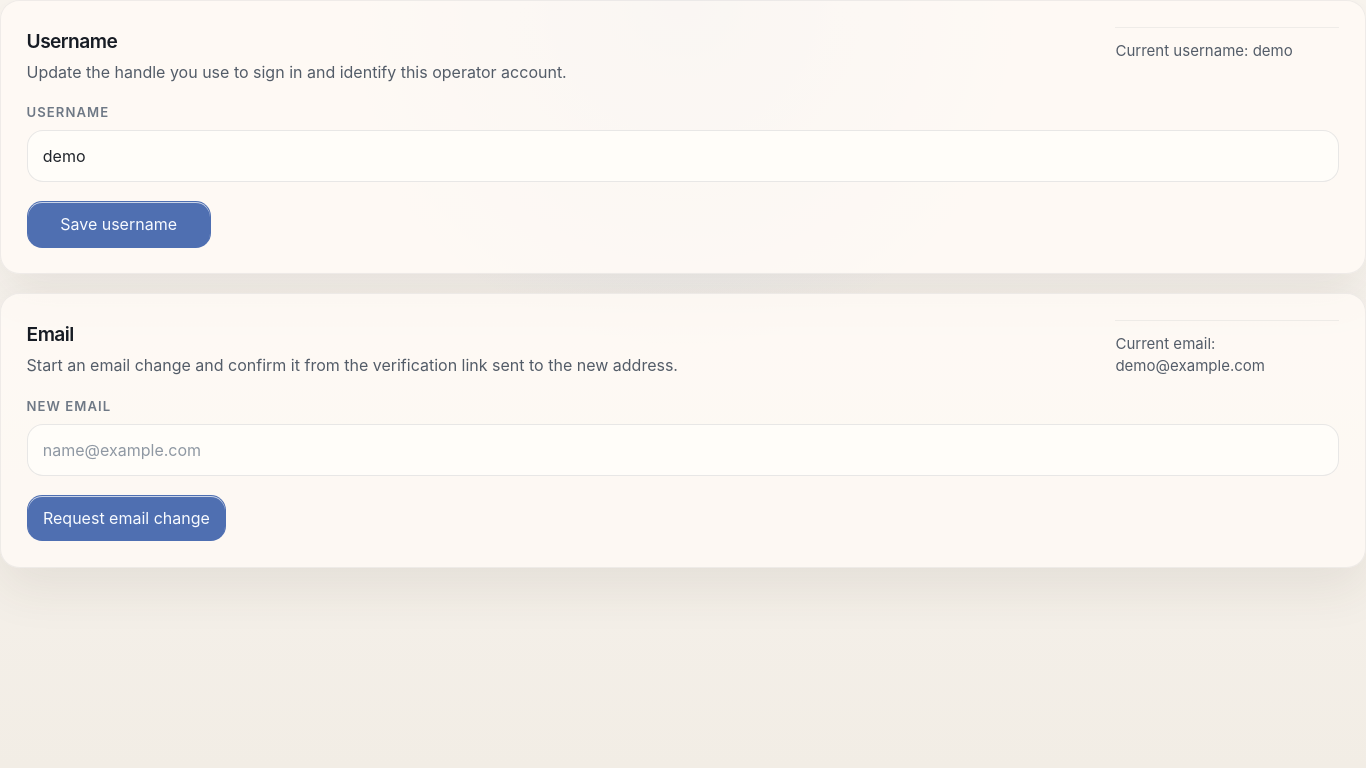
Test: AccountSettingsSection › requests an email change and clears the field after success
The image size is (1366, 768).
Type "next@example.com" into the field labelled "New email" at (683, 450), box left=27, top=424, right=1339, bottom=476
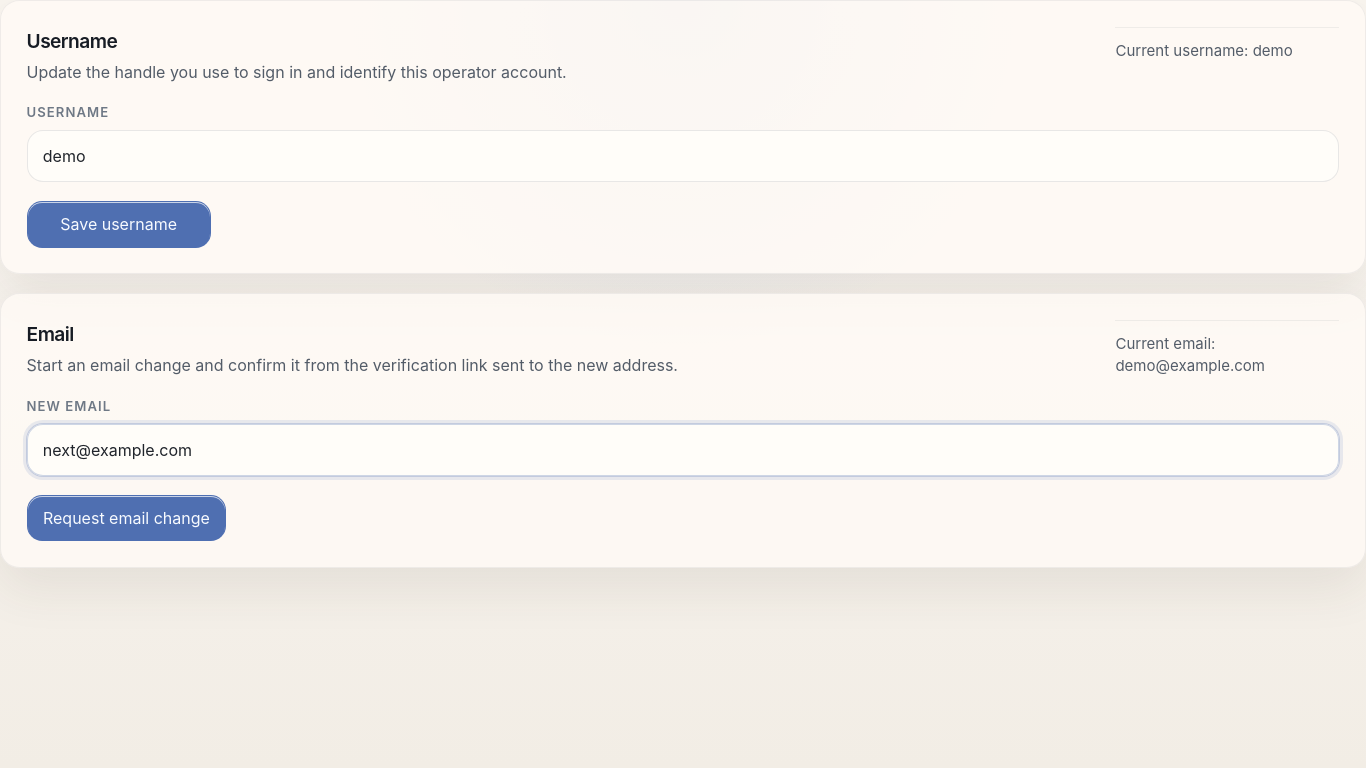
Click the button "Request email change" at (126, 518), box left=27, top=495, right=226, bottom=541
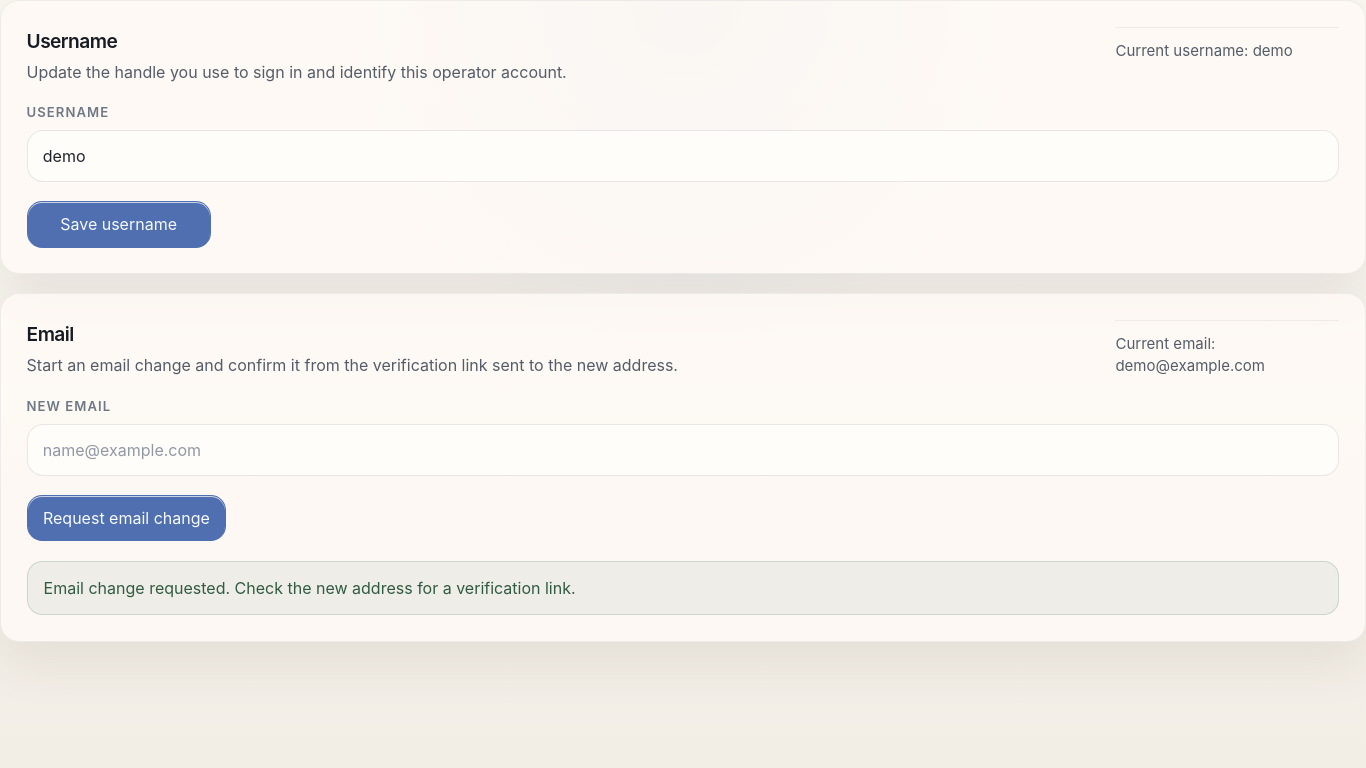
Now the text "Email change requested. Check the new address for a verification link." is shown, box left=27, top=560, right=1339, bottom=615
Now the field labelled "New email" is empty, box left=27, top=424, right=1339, bottom=476
